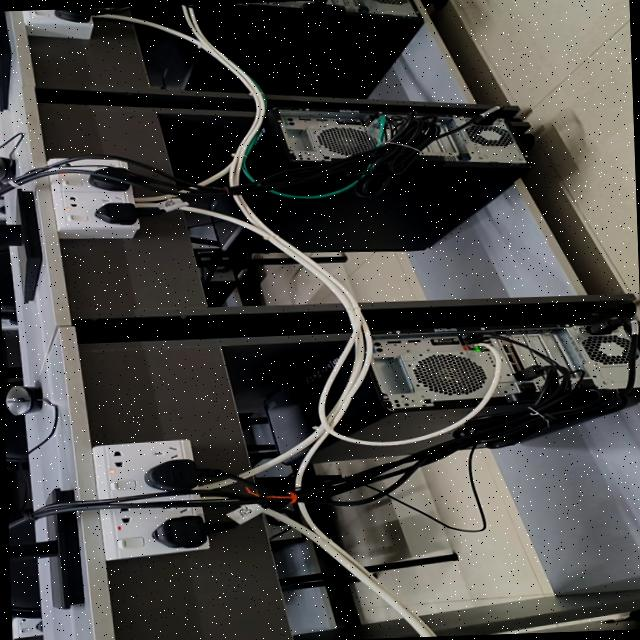Cpu: (311, 317, 640, 462), (244, 119, 526, 252), (196, 0, 421, 98), (245, 108, 403, 178), (264, 341, 353, 454), (136, 27, 242, 91), (211, 217, 277, 253)
Mouse: (4, 385, 39, 415), (0, 157, 13, 182)
